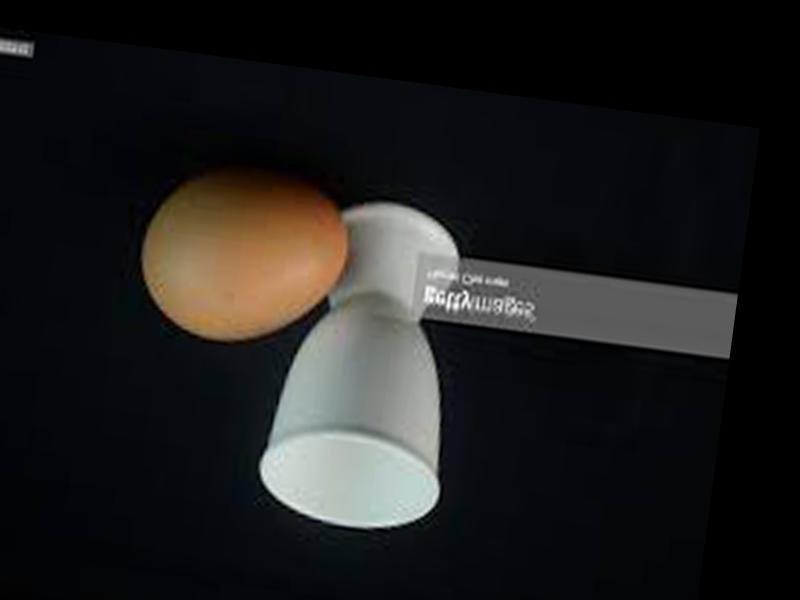Eggs: (134, 166, 357, 355)
